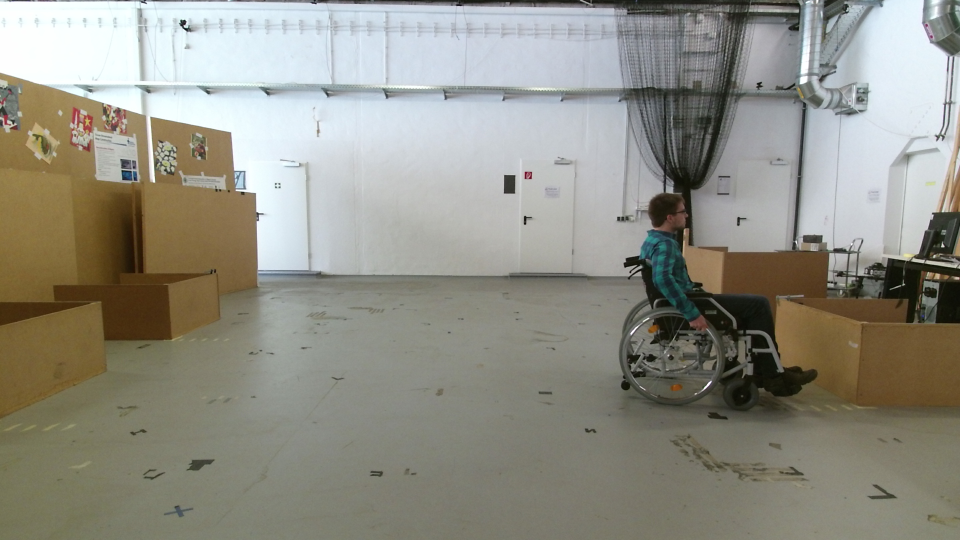wheelchair: (615, 187, 825, 417)
